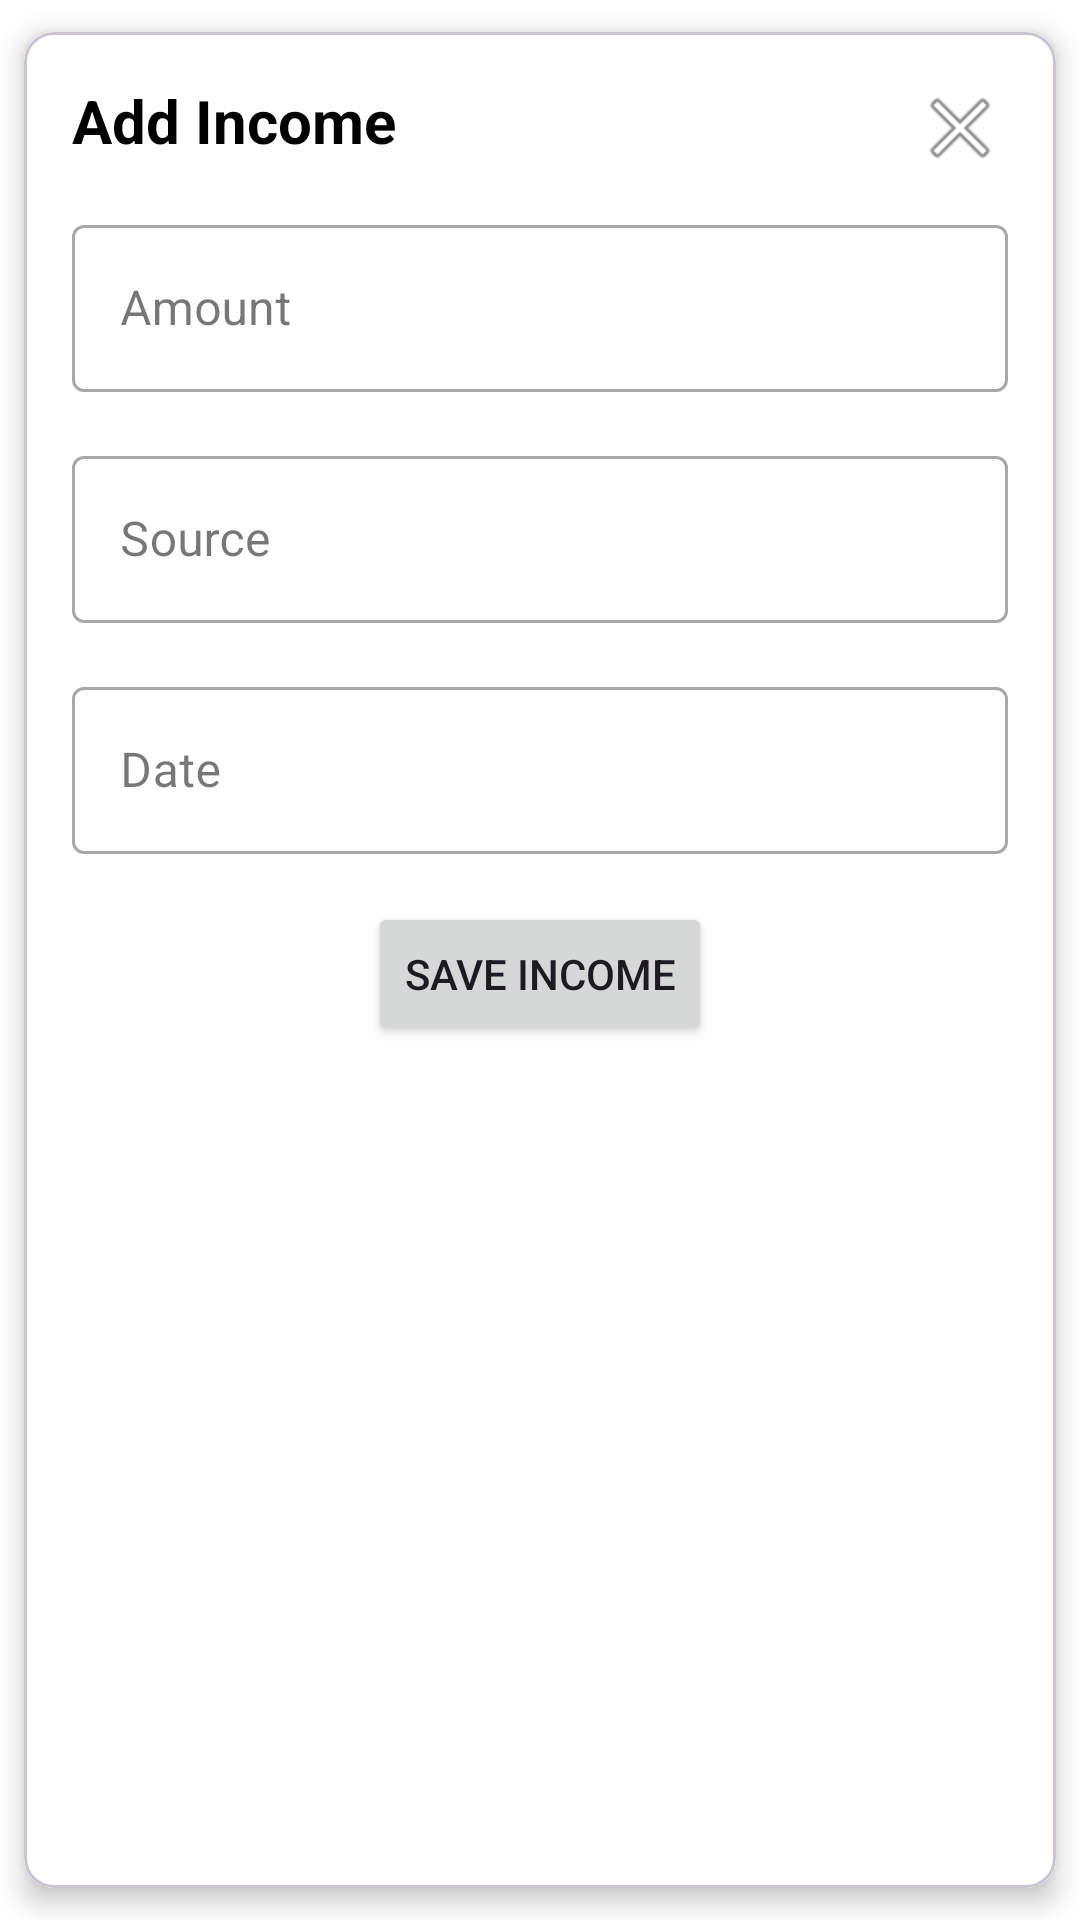

Named icons in this screenshot (1080px×1920px) and their centers, (x,y):
close clear cancel: (960,128)
